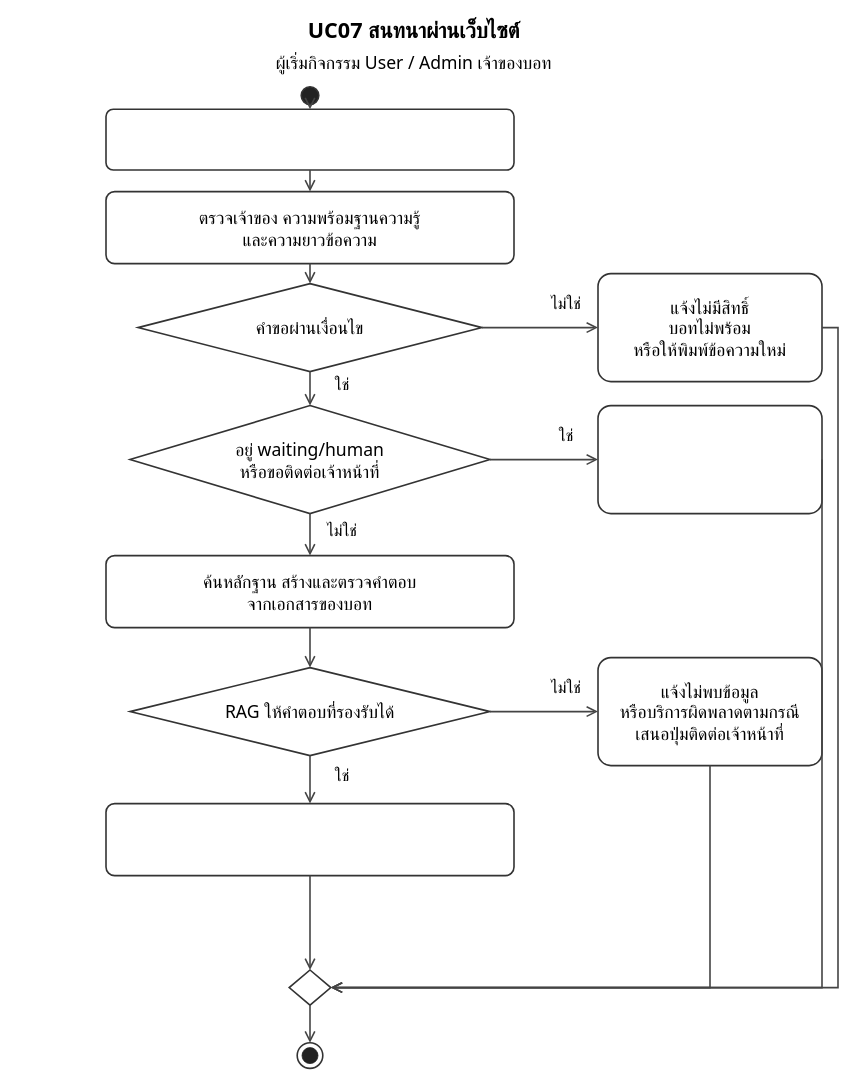
This 862x1082 diagram has some shape labels left out. The centre of each missing label's shape, as x and y in pixels:
บันทึกข้อความใน live session สร้าง waiting เมื่อมีคำขอ ตอบสถานะโดยไม่เรียก RAG: [709,459]
บันทึกและแสดงคำตอบพร้อมแหล่งอ้างอิง เมื่อมีข้อมูลแหล่งที่มาจากระบบ: [309,839]
เลือกบอทและส่งข้อความ: [309,139]
